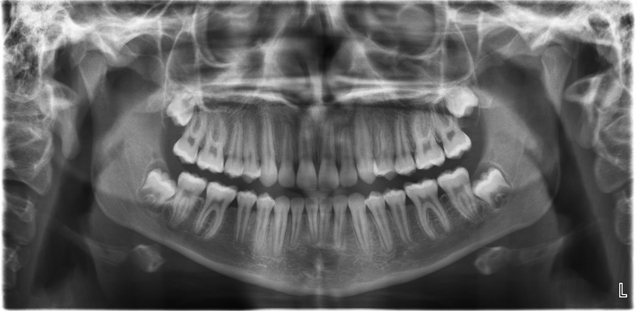canine: (355, 114, 380, 185), (347, 191, 372, 256), (259, 115, 280, 187), (274, 193, 292, 256)
incisor: (295, 113, 320, 192), (317, 112, 340, 191), (337, 114, 359, 187), (277, 113, 296, 187), (304, 194, 321, 245), (291, 194, 307, 247), (334, 191, 347, 253), (319, 196, 334, 243)
molar: (402, 177, 454, 236), (433, 164, 483, 219), (202, 176, 237, 244), (470, 164, 518, 210), (409, 110, 446, 168), (172, 169, 205, 231), (139, 164, 179, 215), (201, 102, 227, 176), (433, 110, 472, 159), (175, 107, 204, 170), (387, 190, 414, 247), (441, 82, 481, 117), (165, 86, 198, 124)
premolar: (364, 190, 396, 256), (375, 116, 399, 179), (392, 112, 415, 176), (241, 113, 261, 184), (226, 110, 245, 182), (255, 191, 274, 253), (236, 187, 256, 244)
